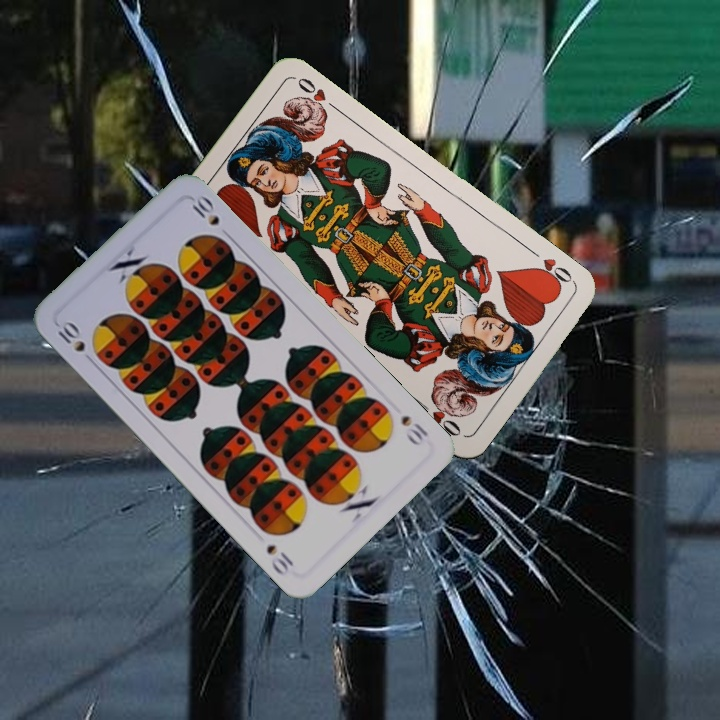HO: (528, 254, 578, 292)
S10: (53, 316, 88, 355), (397, 411, 431, 449)
